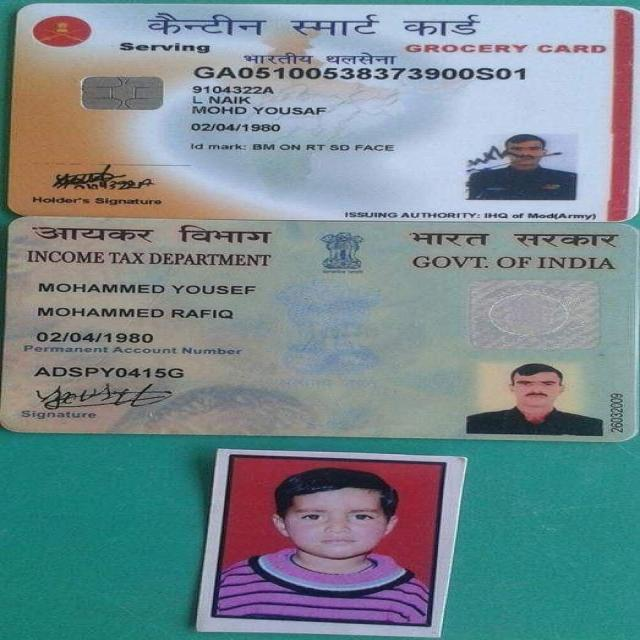pan_card: (3, 215, 638, 444)
